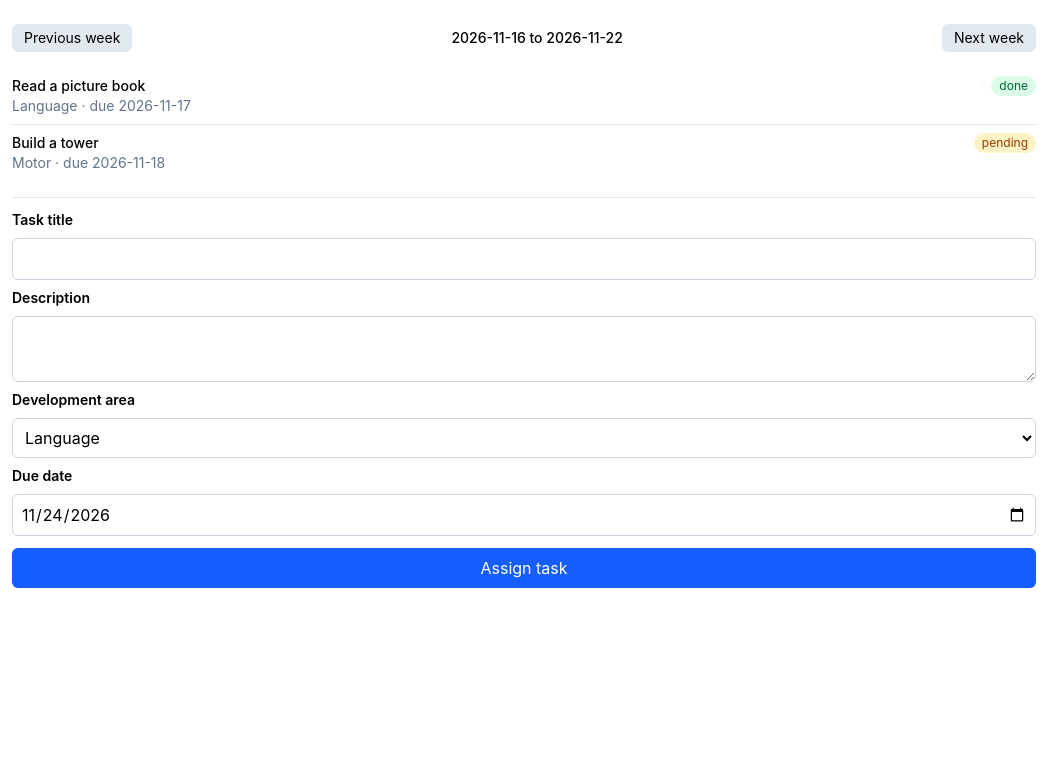
it: TaskBoard › shows the validation message from the API and keeps the form
Expected: the text "Read a picture book" is shown, [12, 77, 145, 94]
Type "Draw a house" into the field labelled "Task title" at (524, 259), box [12, 238, 1036, 280]
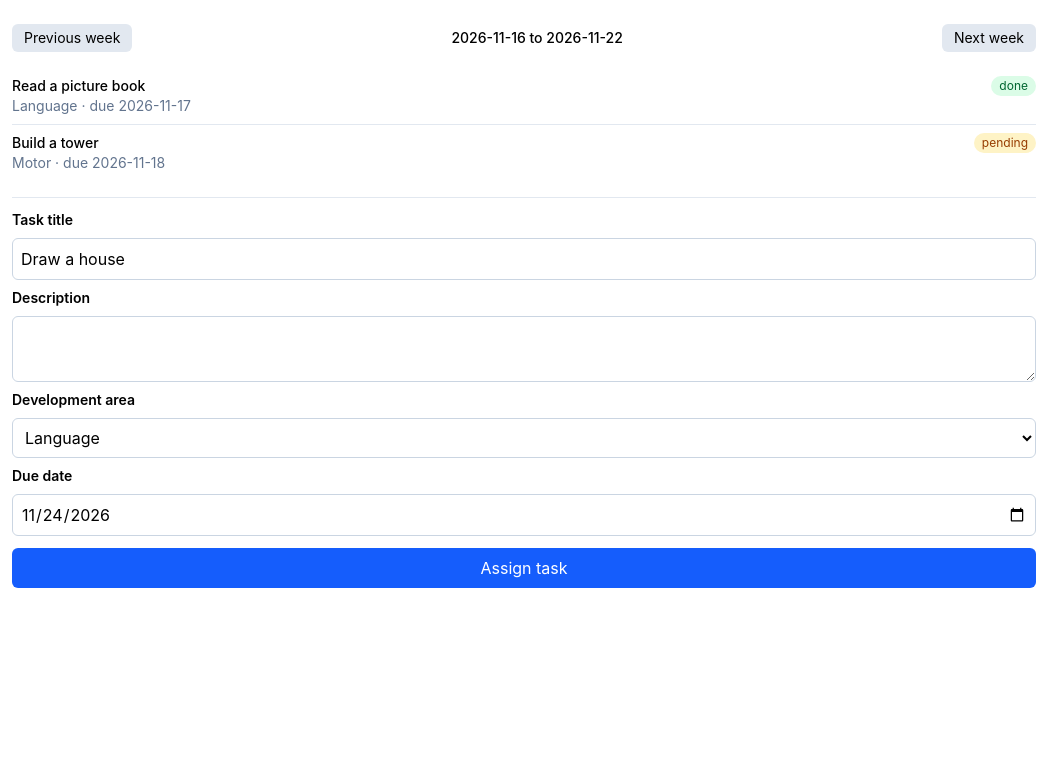
Select "Motor" in the dropdown labelled "Development area" at (524, 438), box [12, 418, 1036, 458]
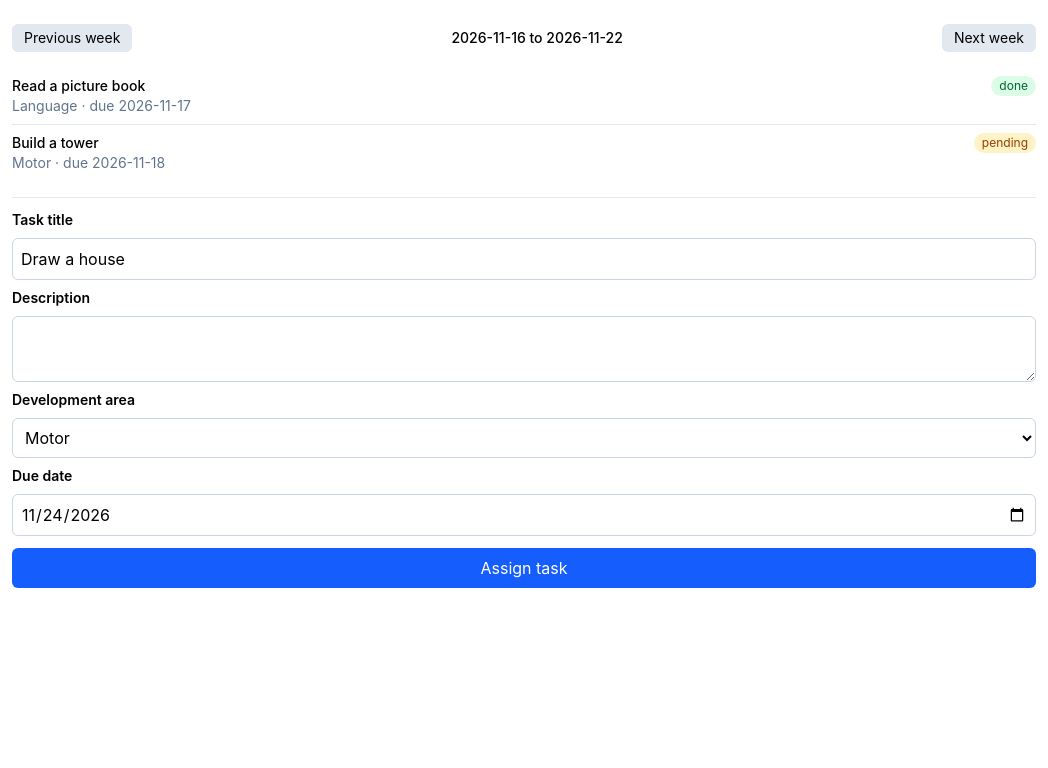
Type "2026-11-25" into the date field labelled "Due date" at (524, 515), box [12, 494, 1036, 536]
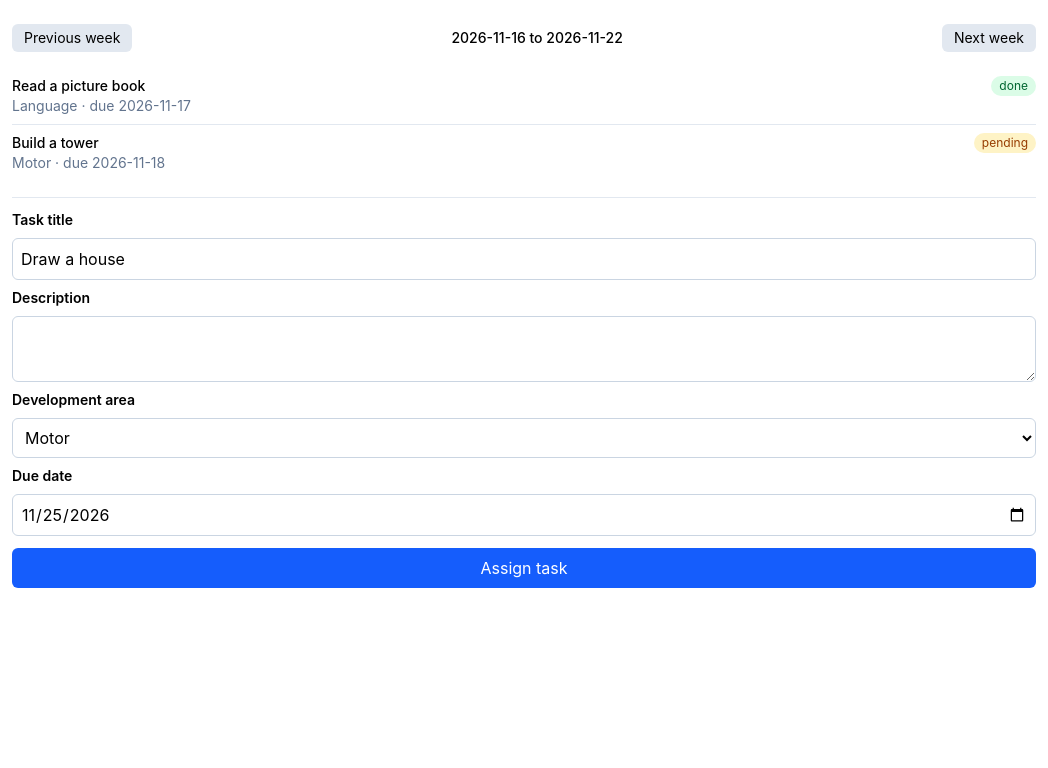
Click the button "Assign task" at (524, 568), box [12, 548, 1036, 588]
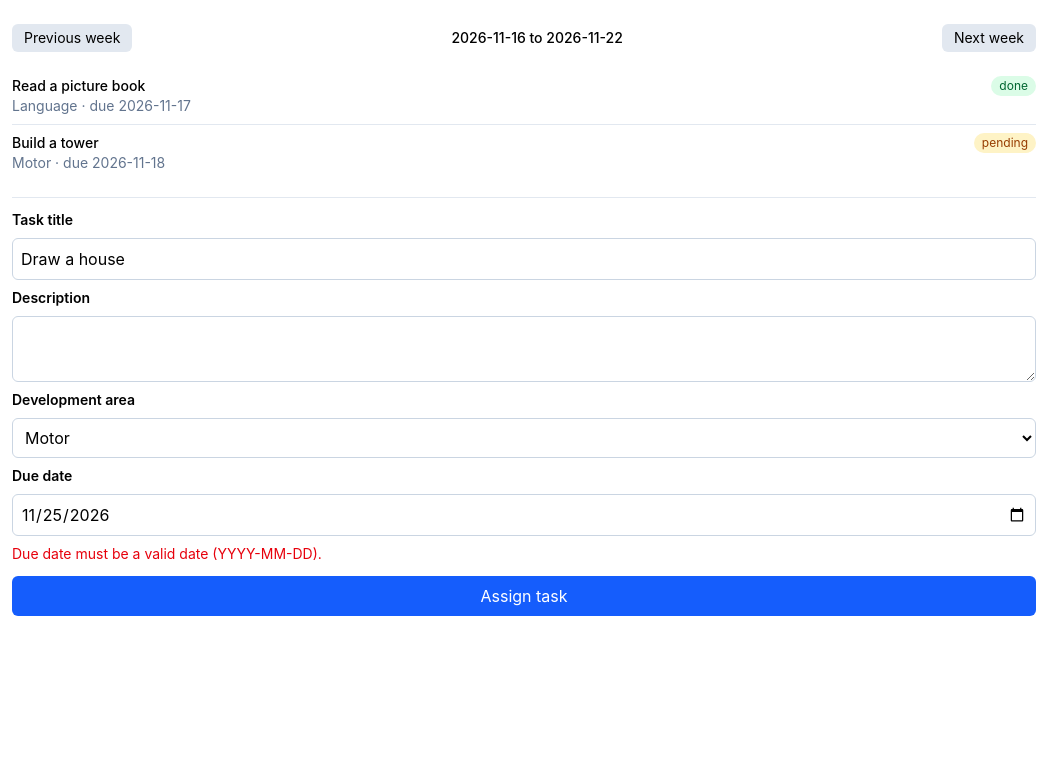
Expected: the message reads "Due date must be a valid date (YYYY-MM-DD).", [12, 545, 322, 562]
